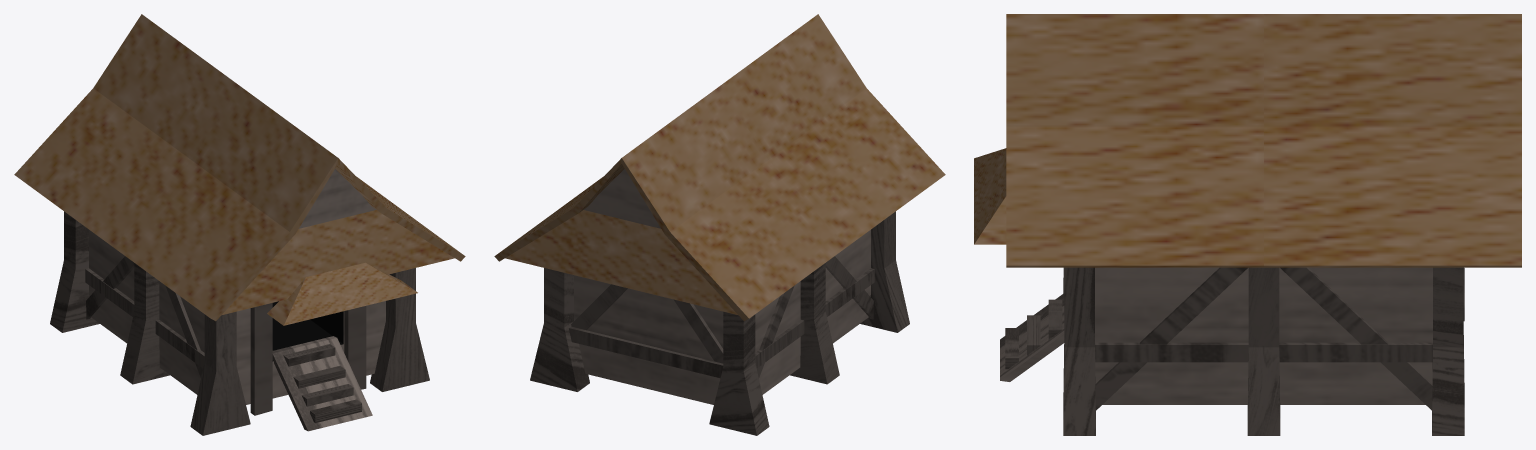
File: SheepPen_Cvl_09-10.fbx
The picture shows the model from 3 angles, left to right: view 1: azimuth 30°, elevation 25°; view 2: azimuth 150°, elevation 25°; view 3: azimuth 270°, elevation 25°; orthographic projection. The views are drawn at different scales.
Parts seen in each view (by area): view 1: Roof, Support, Main body, board; view 2: Roof, Support, Main body; view 3: Roof, Main body, Support, board.
Boxes of the visible parts, x1,y1,x2,y2 form: Roof: [14, 14, 465, 325]; Support: [50, 211, 429, 435]; Main body: [89, 230, 385, 404]; board: [272, 336, 372, 431]; Roof: [494, 14, 945, 321]; Support: [530, 211, 909, 435]; Main body: [574, 230, 870, 404]; Roof: [974, 14, 1521, 267]; Main body: [1095, 267, 1432, 404]; Support: [1063, 267, 1464, 435]; board: [1000, 293, 1064, 381].
Bounding box in the file's own units: 1201 × 1199 × 1704.
4 materials, 3 textured.
